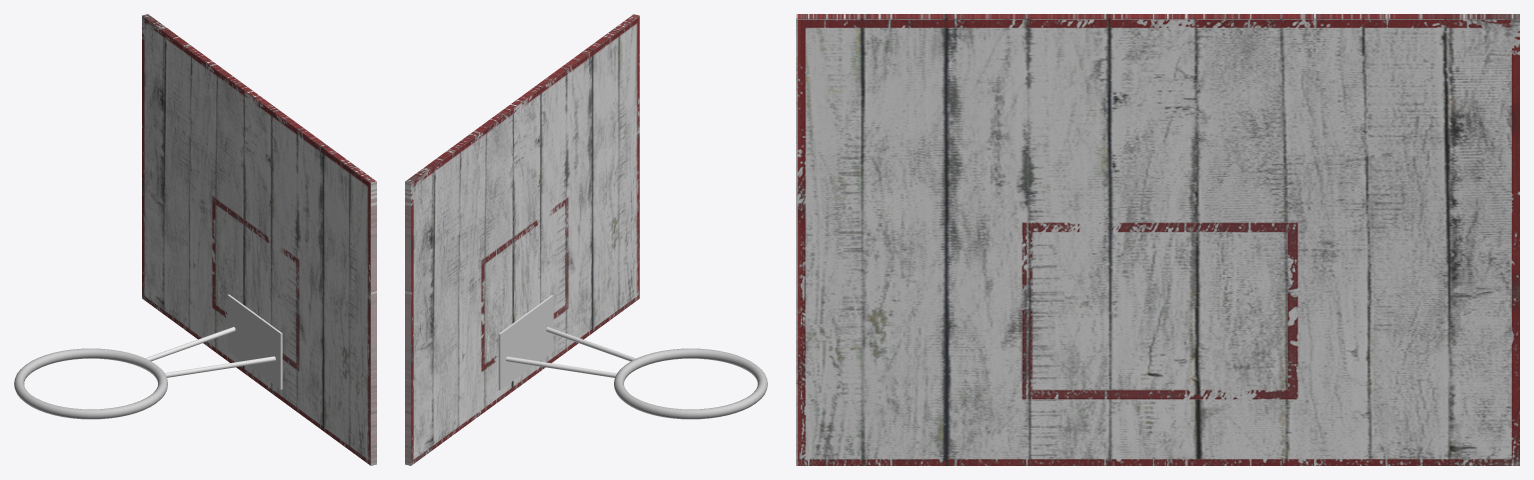
Rendered from Panneau.fbx.
3 views of the same model, side by side, from view 1: azimuth 30°, elevation 25°; view 2: azimuth 150°, elevation 25°; view 3: azimuth 270°, elevation 25° (orthographic). The views are drawn at different scales.
Visible parts, largest first — view 1: polySurface32; view 2: polySurface32; view 3: polySurface32.
Boxes of the visible parts, bbox=[...] form: polySurface32: bbox=[14, 14, 376, 465]; polySurface32: bbox=[405, 14, 767, 465]; polySurface32: bbox=[796, 14, 1519, 465].
Bounding box in the file's own units: 10.32 × 11.72 × 17.19.
